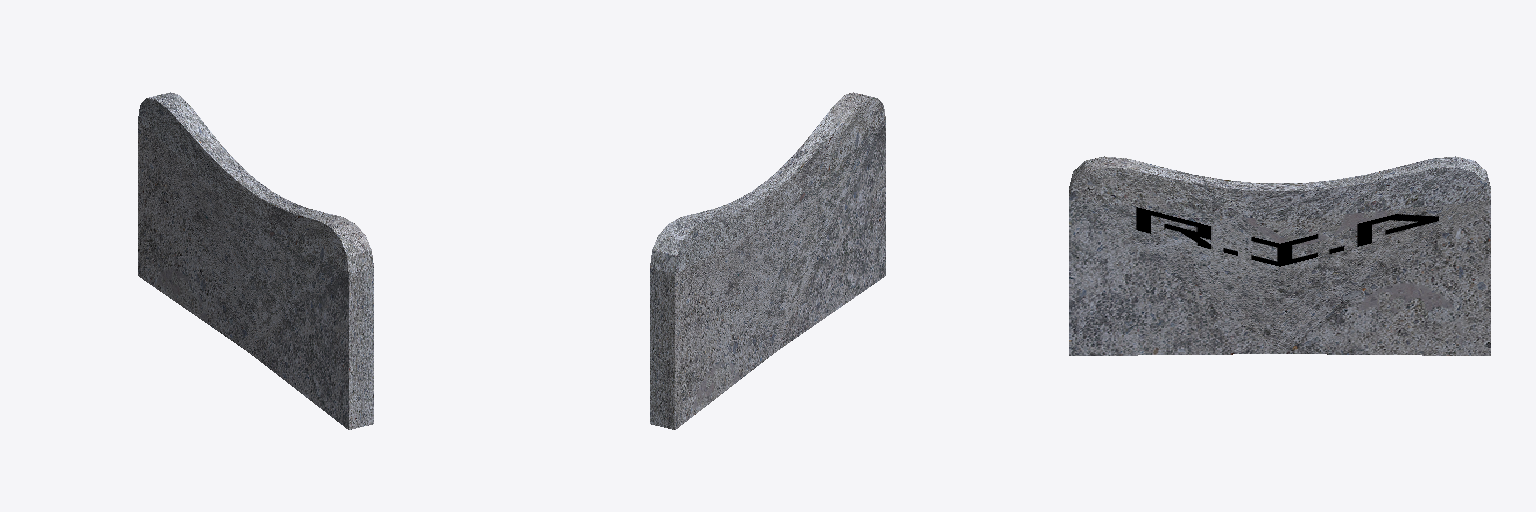
3 renders of one model, left to right at view 1: azimuth 30°, elevation 25°; view 2: azimuth 150°, elevation 25°; view 3: azimuth 270°, elevation 25°, orthographic.
Visible parts, largest first — view 1: Cube_Cube.001; view 2: Cube_Cube.001; view 3: Cube_Cube.001.
Boxes of the visible parts, <box> form: Cube_Cube.001: <box>138,92,373,429</box>; Cube_Cube.001: <box>650,92,885,429</box>; Cube_Cube.001: <box>1069,156,1490,355</box>.
Bounding box in the file's own units: 0.1562 × 1.11 × 2.25.
Materials: 1 (1 with a texture image).